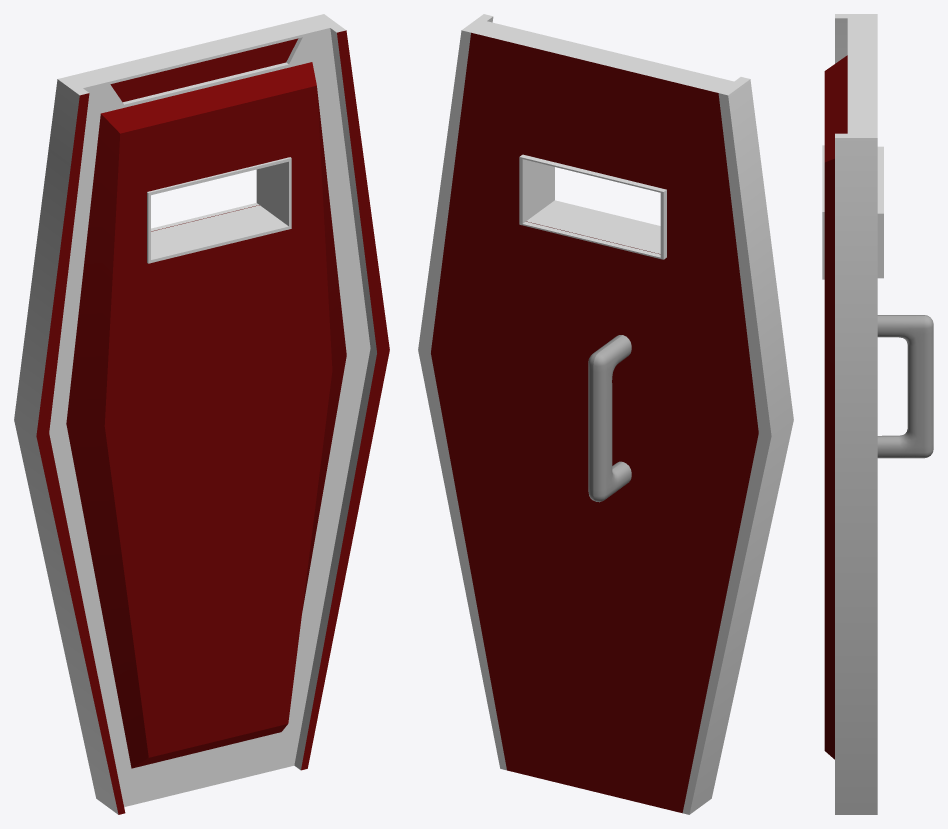
The model's file is shield.fbx.
The picture shows the model from 3 angles, left to right: view 1: azimuth 30°, elevation 25°; view 2: azimuth 150°, elevation 25°; view 3: azimuth 270°, elevation 25°; orthographic projection. The views are drawn at different scales.
Parts seen in each view (by area): view 1: pCube1; view 2: pCube1, pCube24; view 3: pCube1, pCube24.
Boxes of the visible parts, x1=… form: pCube1: x1=14, y1=14, x2=389, y2=814; pCube1: x1=418, y1=14, x2=793, y2=814; pCube24: x1=588, y1=335, x2=631, y2=502; pCube1: x1=822, y1=14, x2=883, y2=814; pCube24: x1=877, y1=315, x2=933, y2=458.
Size of the model in its own units: 5.2 by 10.25 by 1.49.
